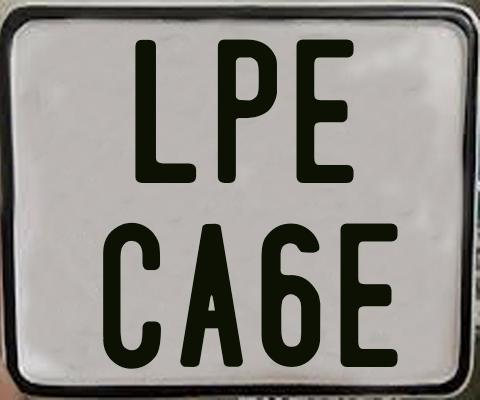6: (260, 220, 325, 370)
A: (179, 222, 243, 365)
C: (100, 221, 159, 370)
E: (293, 36, 356, 186), (339, 222, 398, 370)
L: (134, 38, 201, 187)
P: (216, 38, 277, 182)
